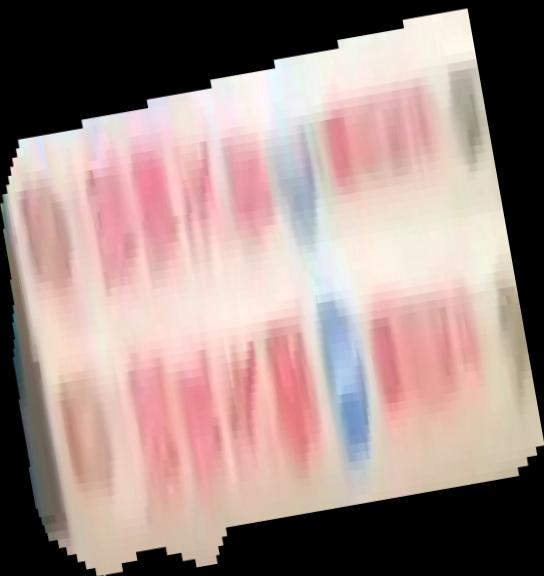flat: (1, 1, 544, 576)
